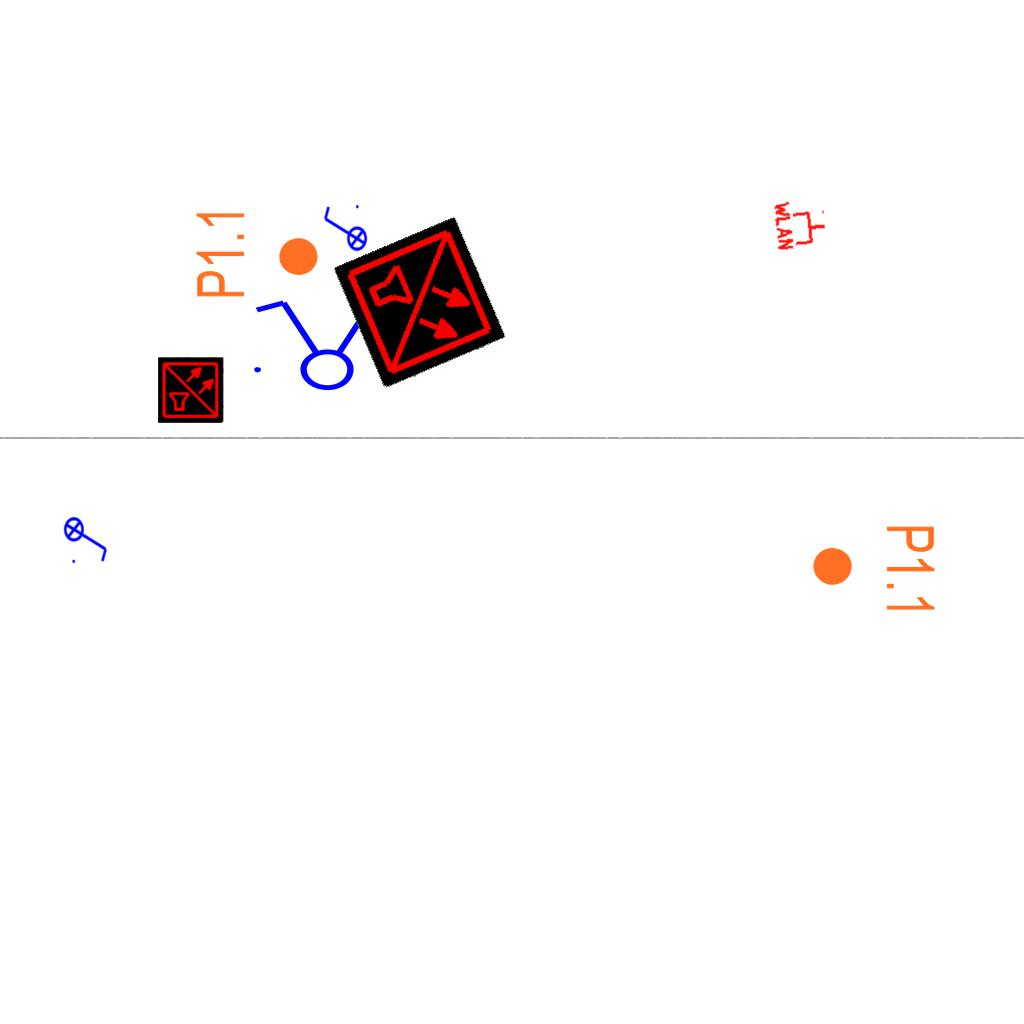Ausschalter_beleuchtet: (320, 202, 368, 258), (63, 510, 111, 566)
Downlight_LED_Einbauleuchten_Flur: (810, 523, 938, 616), (193, 207, 321, 300)
OKW_Multisensormelder_(Kombination_optischer_Rauch-Kahlenmonoxid_Waerme-Melder): (333, 216, 507, 390), (158, 357, 224, 423)
Serienschalter: (242, 296, 410, 392)
WLAN: (772, 195, 830, 253)
